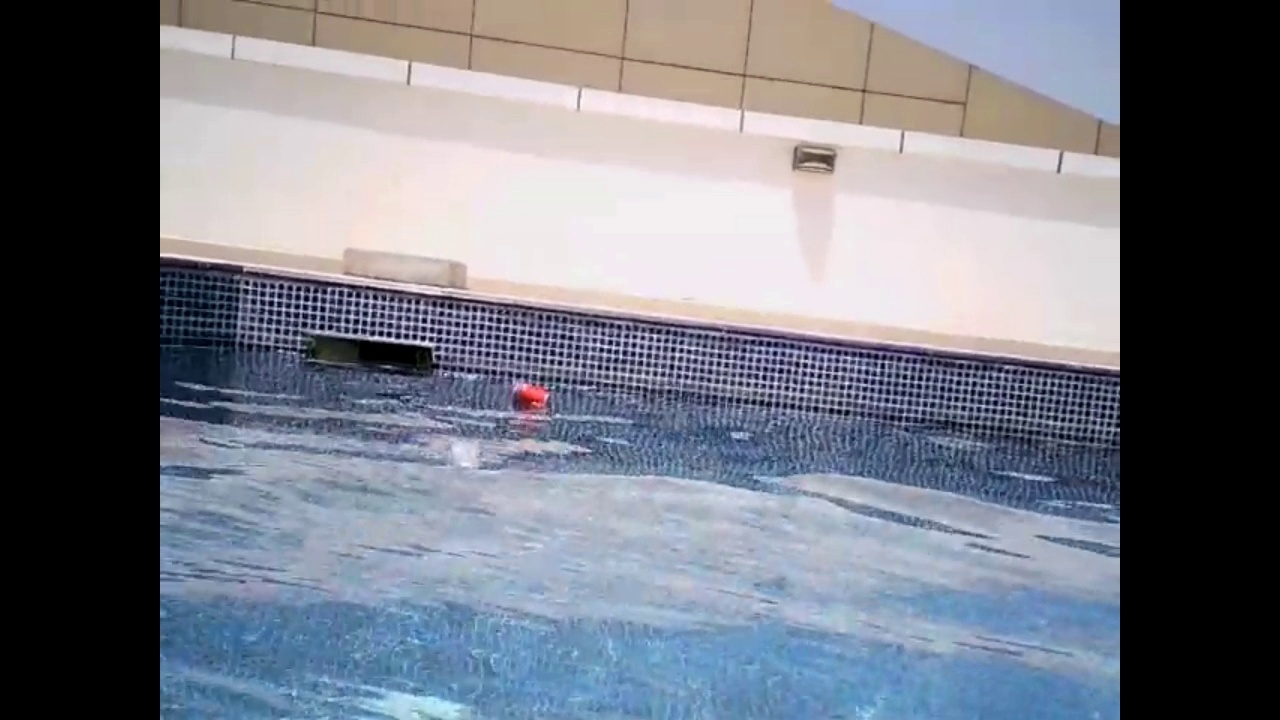debris: (506, 379, 561, 419), (440, 430, 486, 473)
